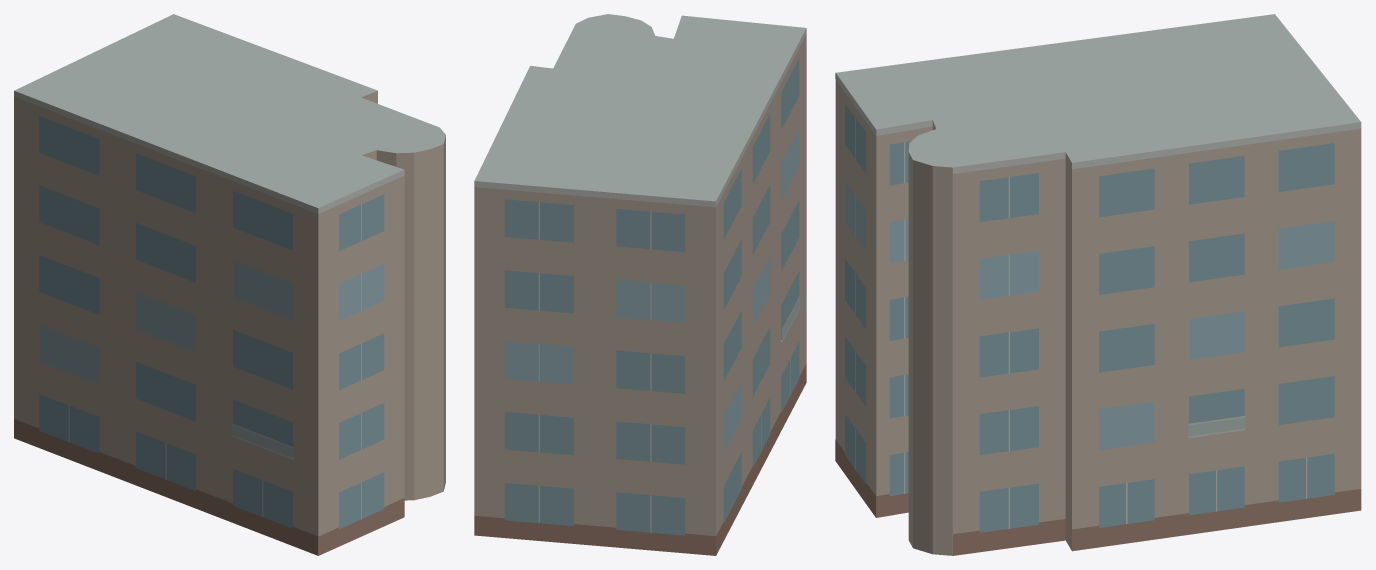
Rendered from survey-upis-32745750.glb.
3 renders of one model, left to right at view 1: azimuth 30°, elevation 25°; view 2: azimuth 150°, elevation 25°; view 3: azimuth 270°, elevation 25°, orthographic. The views are drawn at different scales.
Visible parts, largest first — view 1: survey-upis-32745750.tmp; view 2: survey-upis-32745750.tmp; view 3: survey-upis-32745750.tmp.
Boxes of the visible parts, x1,y1,x2,y2 form: survey-upis-32745750.tmp: (14, 14, 445, 555); survey-upis-32745750.tmp: (474, 14, 806, 555); survey-upis-32745750.tmp: (835, 14, 1361, 555).
Size of the model in its own units: 12.31 by 14.5 by 17.8.
